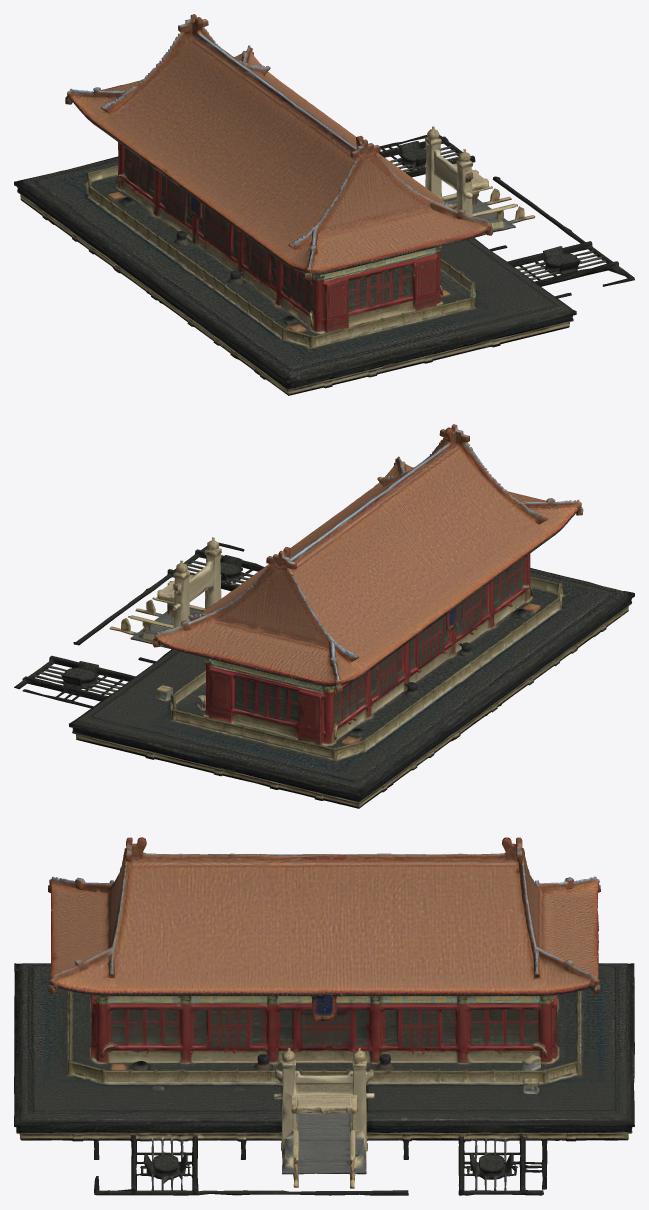
The model's file is detail.glb.
The picture shows the model from 3 angles, top to bottom: view 1: azimuth 30°, elevation 25°; view 2: azimuth 150°, elevation 25°; view 3: azimuth 270°, elevation 25°; orthographic projection. The views are drawn at different scales.
Visible parts, largest first — view 1: zhongshan/tripo_node_e6264424-c4d5-41ed-b9c4-02a890f0daf1; view 2: zhongshan/tripo_node_e6264424-c4d5-41ed-b9c4-02a890f0daf1; view 3: zhongshan/tripo_node_e6264424-c4d5-41ed-b9c4-02a890f0daf1.
Boxes of the visible parts, box(x1,y1,x2,y2) form: zhongshan/tripo_node_e6264424-c4d5-41ed-b9c4-02a890f0daf1: box(14, 14, 634, 395); zhongshan/tripo_node_e6264424-c4d5-41ed-b9c4-02a890f0daf1: box(14, 424, 634, 808); zhongshan/tripo_node_e6264424-c4d5-41ed-b9c4-02a890f0daf1: box(14, 837, 634, 1195).
Bounding box in the file's own units: 0.3251 × 0.1538 × 0.4.
1 material, 1 textured.
